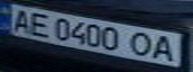0: (100, 25, 127, 52), (51, 16, 72, 43), (84, 21, 103, 48)
4: (66, 19, 87, 45)
A: (148, 33, 181, 63), (6, 7, 36, 34)
E: (24, 10, 54, 37)
O: (127, 29, 157, 57)
